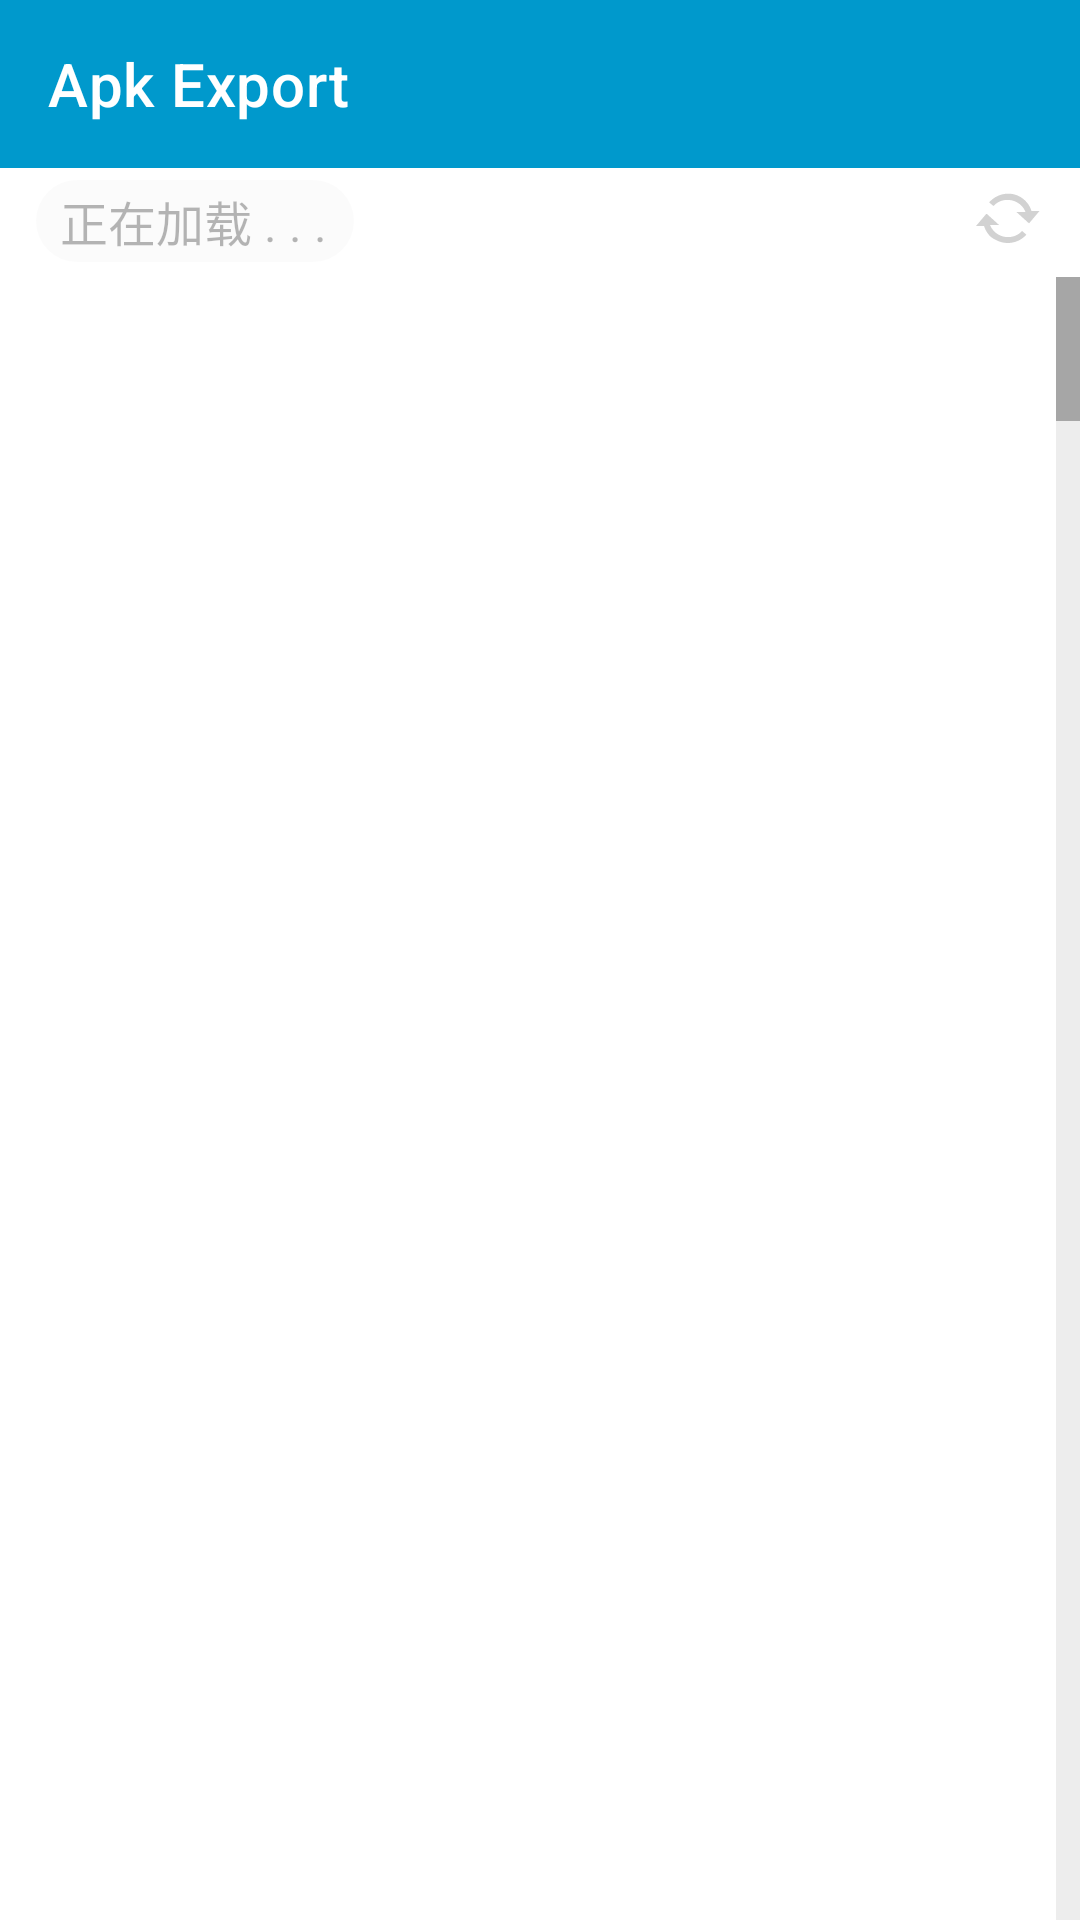

Named icons in this screenshot (1080x1920) and their bounding boxes, (x1, y1, x2, y2):
同步: (976, 194, 1039, 243)
